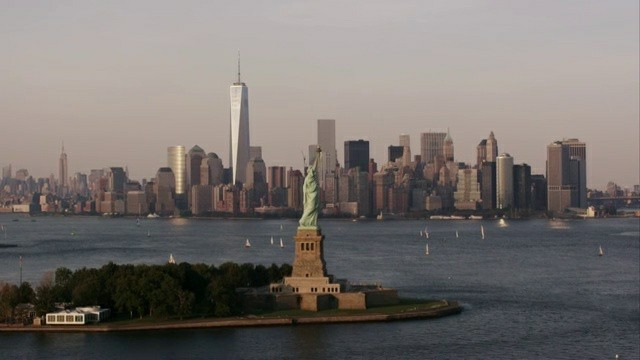SL: (290, 145, 325, 276)
